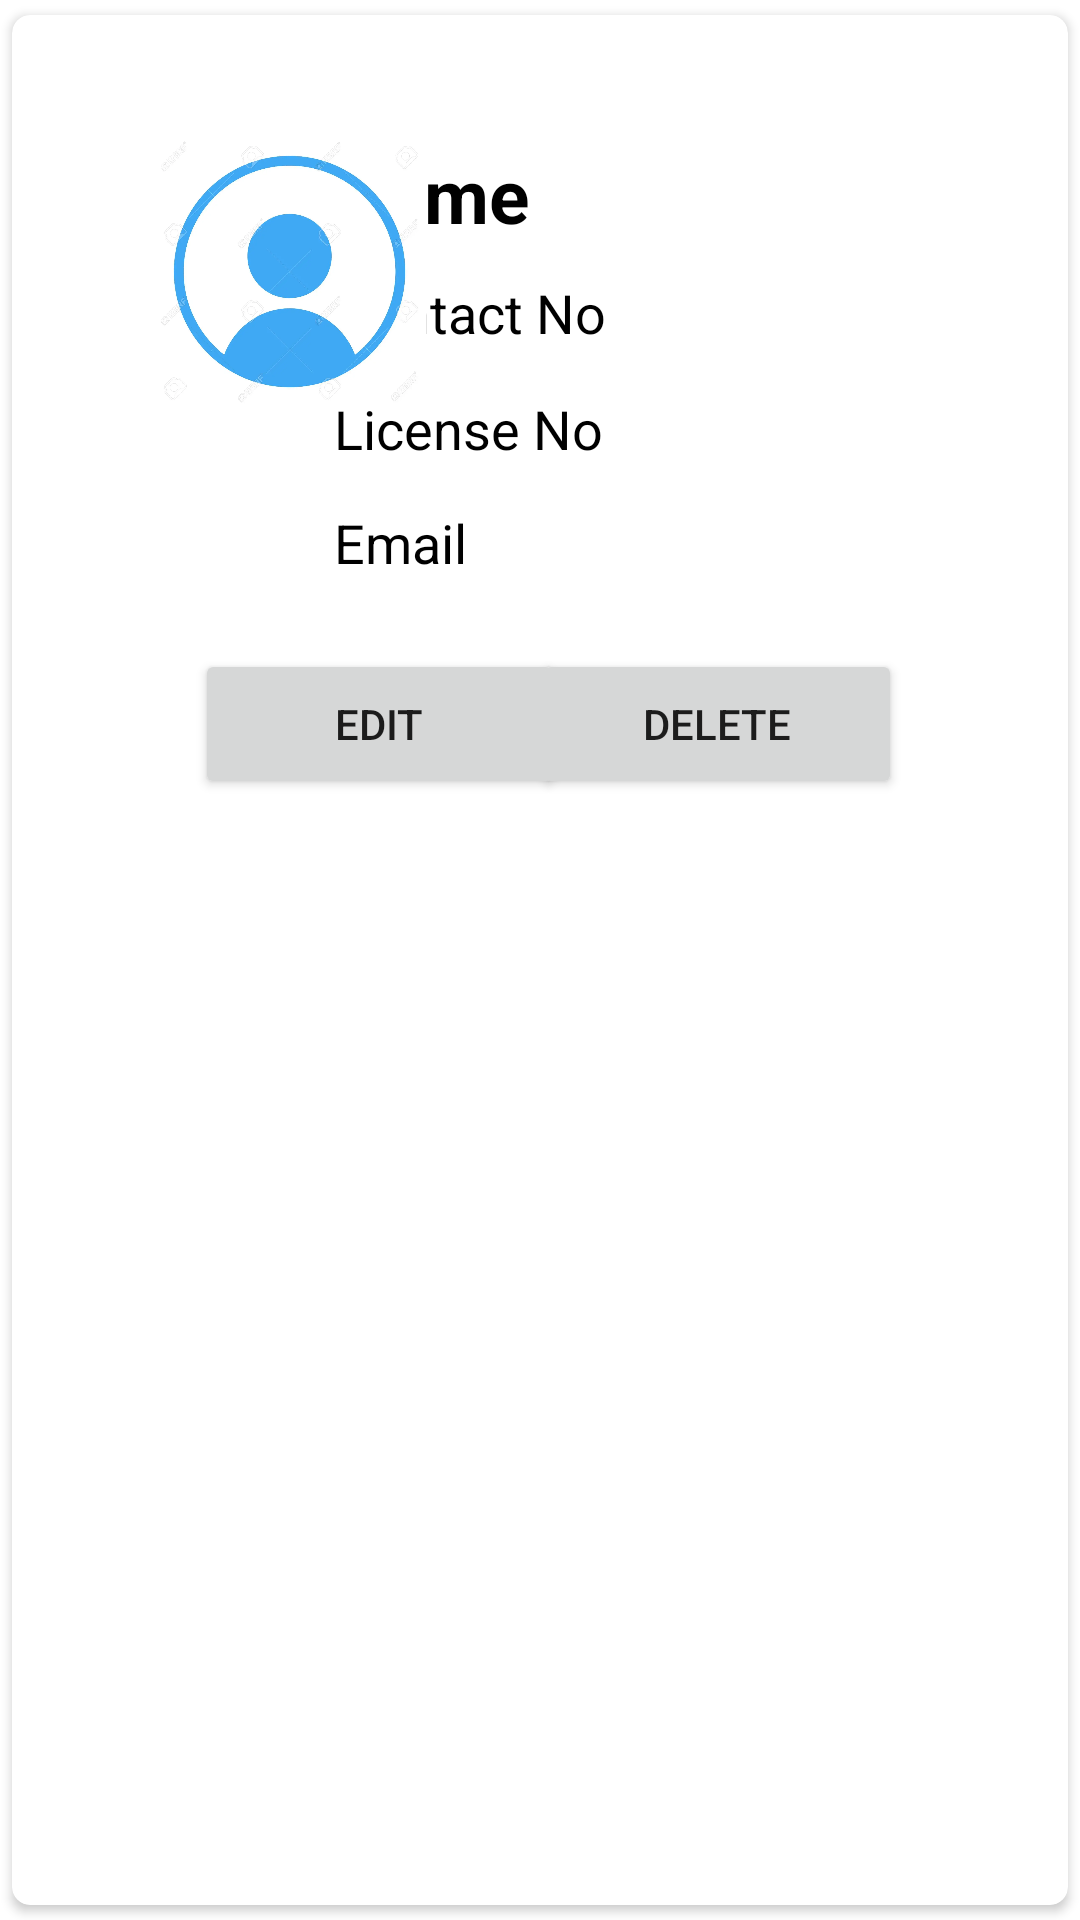

Screen size 1080 × 1920. Icon name, then its center in pixels as [x,y]:
profile: [303,270]
